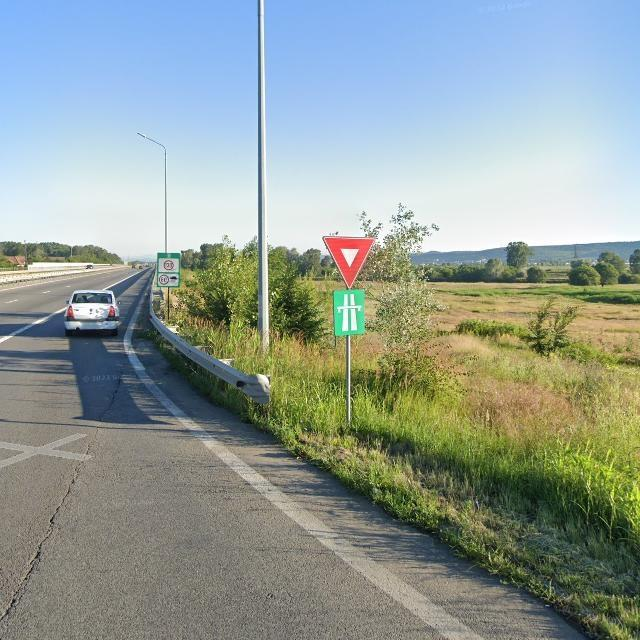prio_give_way: (323, 236, 376, 290)
